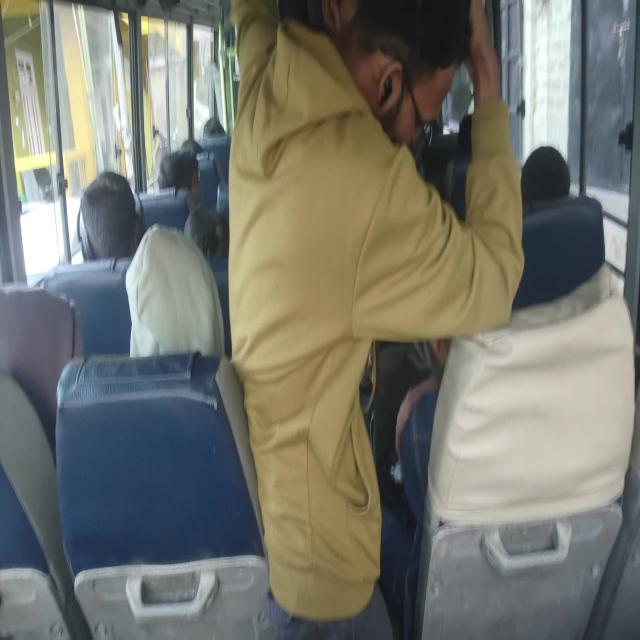person: (245, 10, 446, 324), (120, 238, 225, 370), (0, 286, 84, 415), (409, 282, 522, 375), (82, 167, 140, 278), (181, 203, 229, 278), (526, 146, 579, 204), (155, 149, 202, 203), (458, 111, 501, 156), (175, 130, 206, 165), (203, 107, 227, 147)
